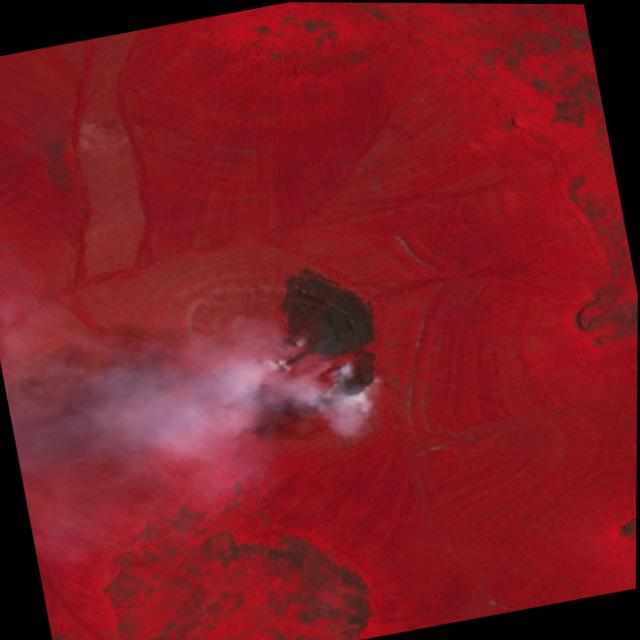fire: (265, 316, 391, 416)
